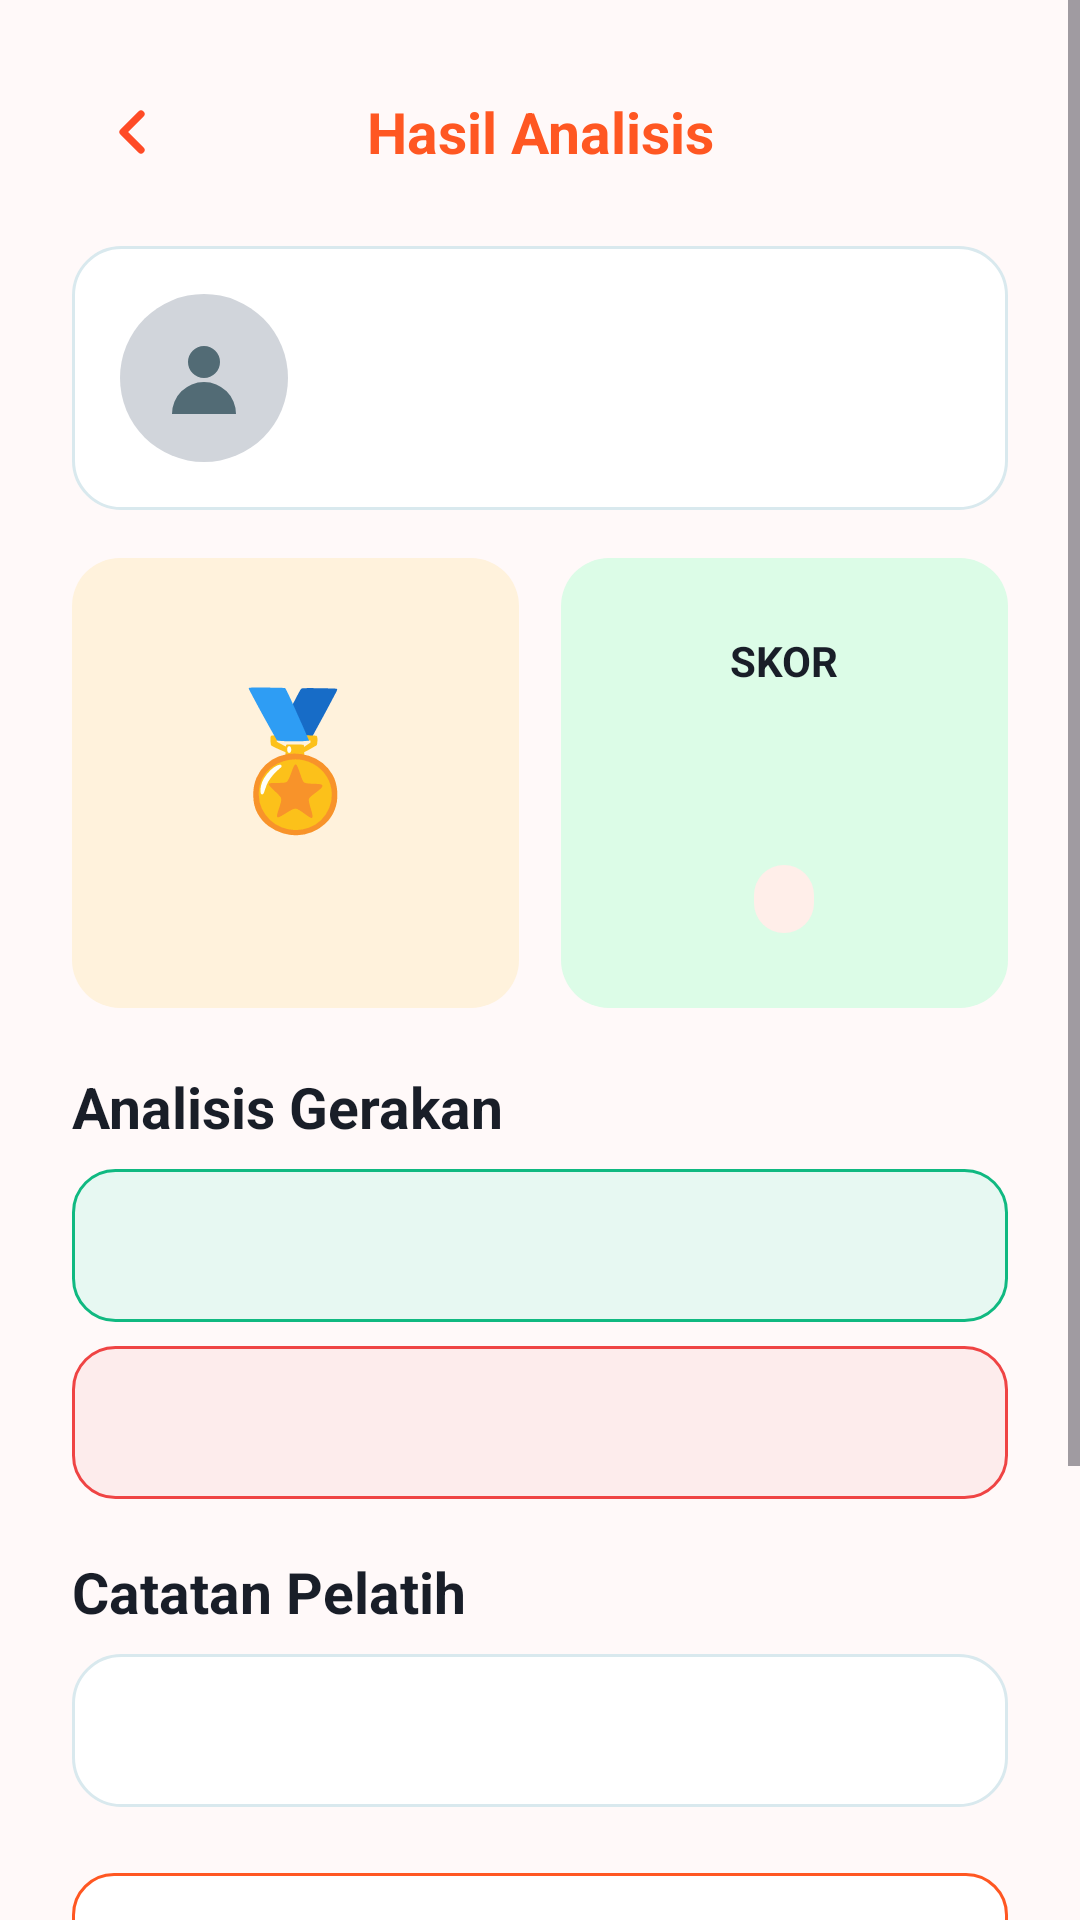

Icons on this 1080 × 1920 Android screen, each with the point to tap as point (x, y):
Kembali: point (132, 132)
user: point (204, 378)
